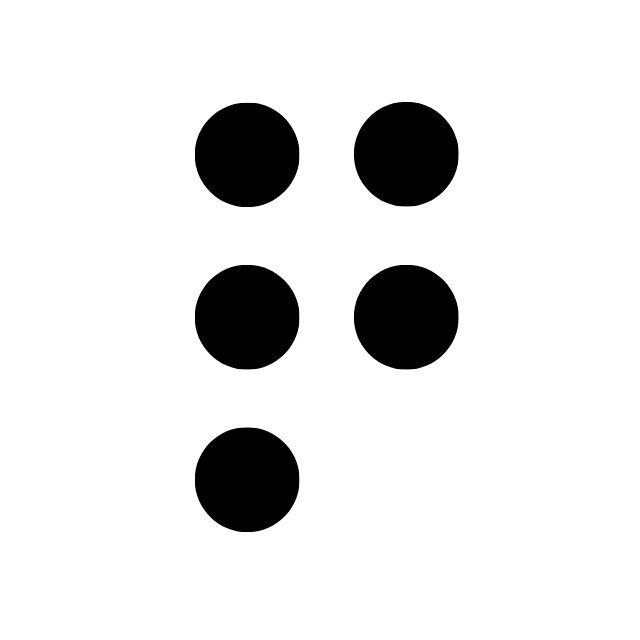kailan: (195, 100, 458, 533)
